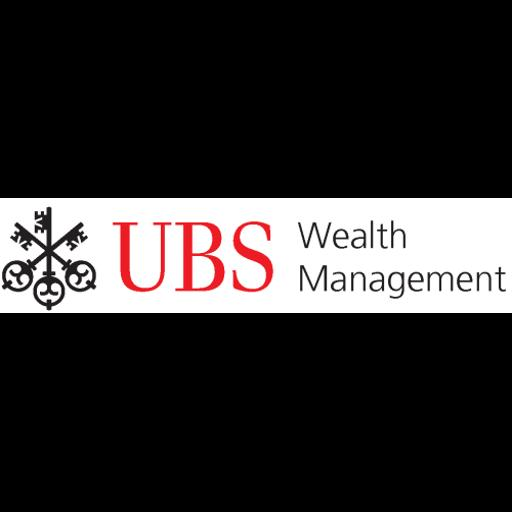UBS AG: (0, 198, 512, 313)
